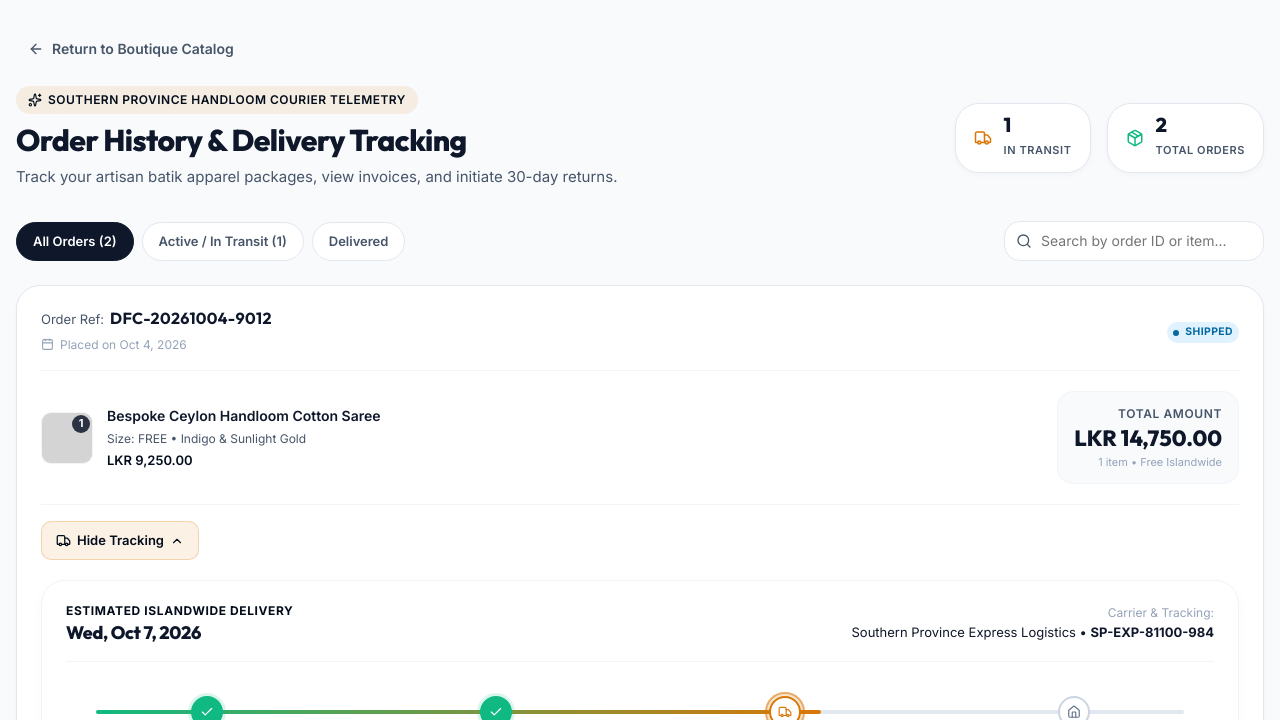
Test: STORM-FE-015: Customer Order History & 4-Stage Delivery Milestone Stepper › AC1 & AC2: OrderHistoryPage & OrderCard Summary › filters orders by status tabs (Active vs Delivered)
The image size is (1280, 720).
Expected: the text "DFC-20261004-9012" is shown, [110,306,272,332]
// Click Delivered tab
Click the tab with test id "filter-delivered": (359, 241) [312,222,405,261]
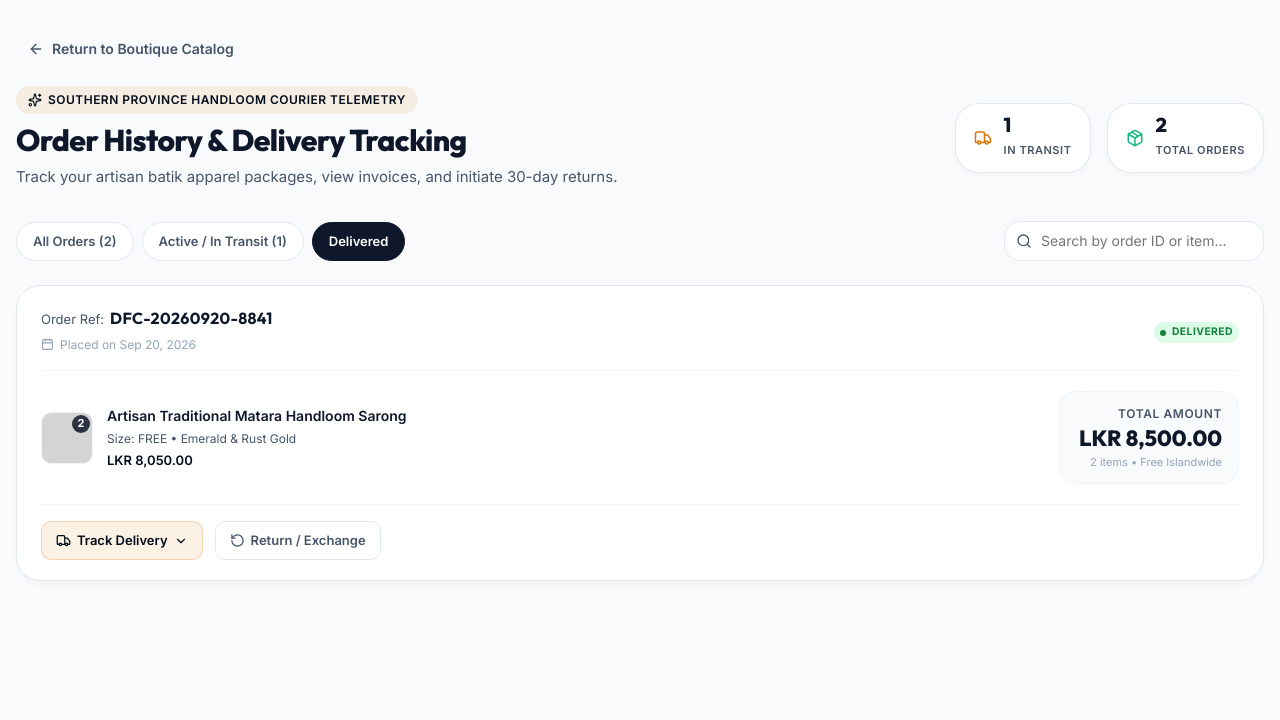
Expected: the text "DFC-20260920-8841" is shown, [110,306,273,332]
Expected: the text "DFC-20261004-9012" is gone
// Click Active tab
Click the tab with test id "filter-active": (223, 241) [142,222,304,261]
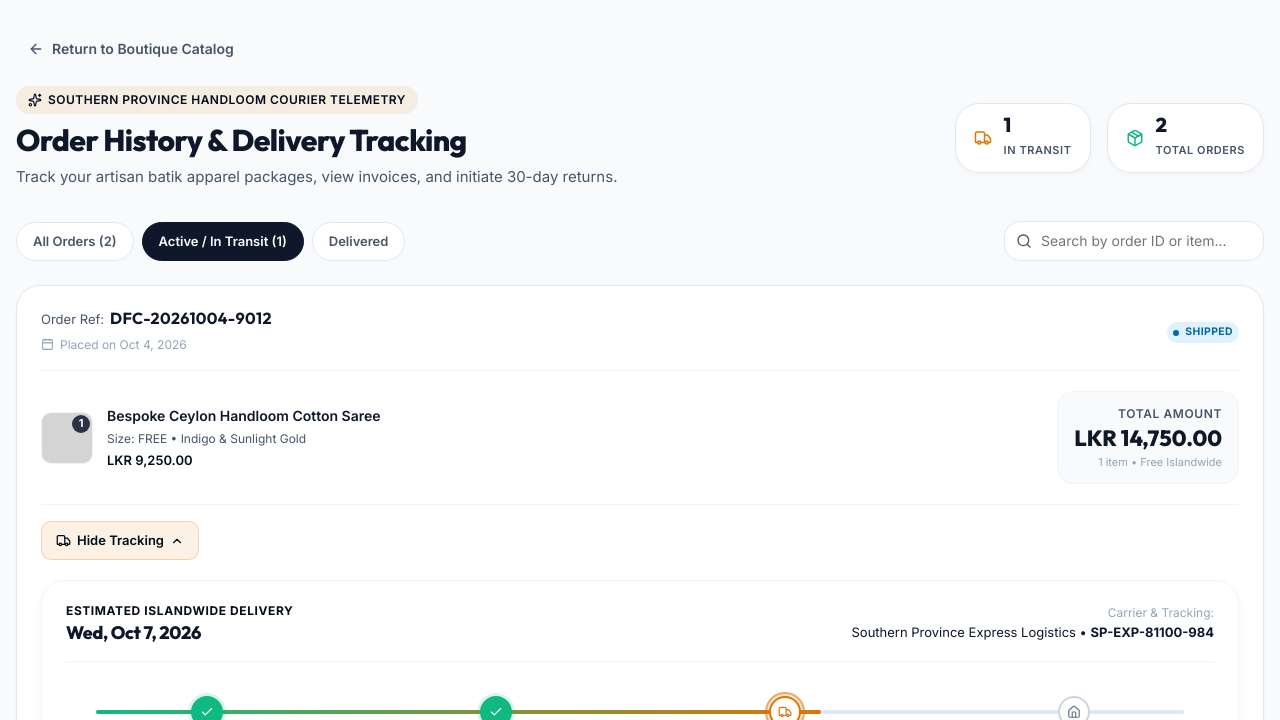
Expected: the text "DFC-20261004-9012" is shown, [110,306,272,332]
Expected: the text "DFC-20260920-8841" is gone
